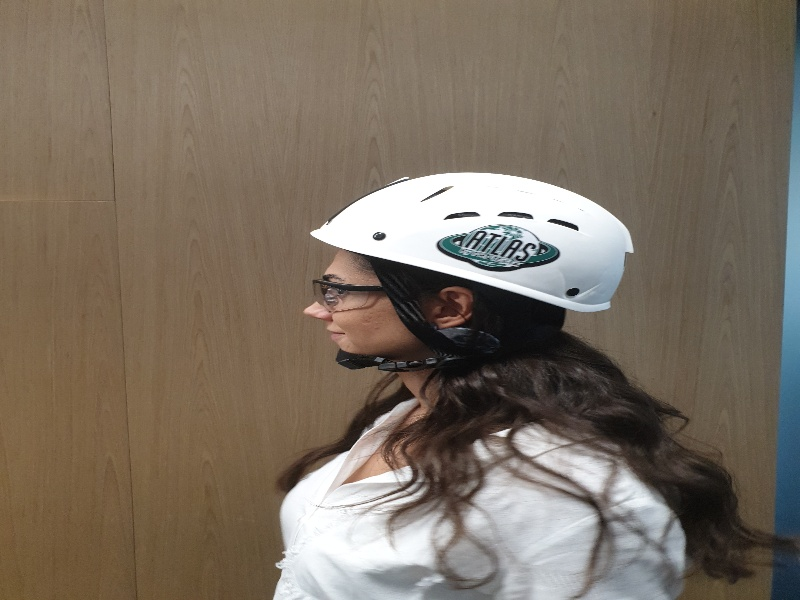Baret: (304, 173, 624, 286)
Gozluk: (309, 278, 425, 305)
